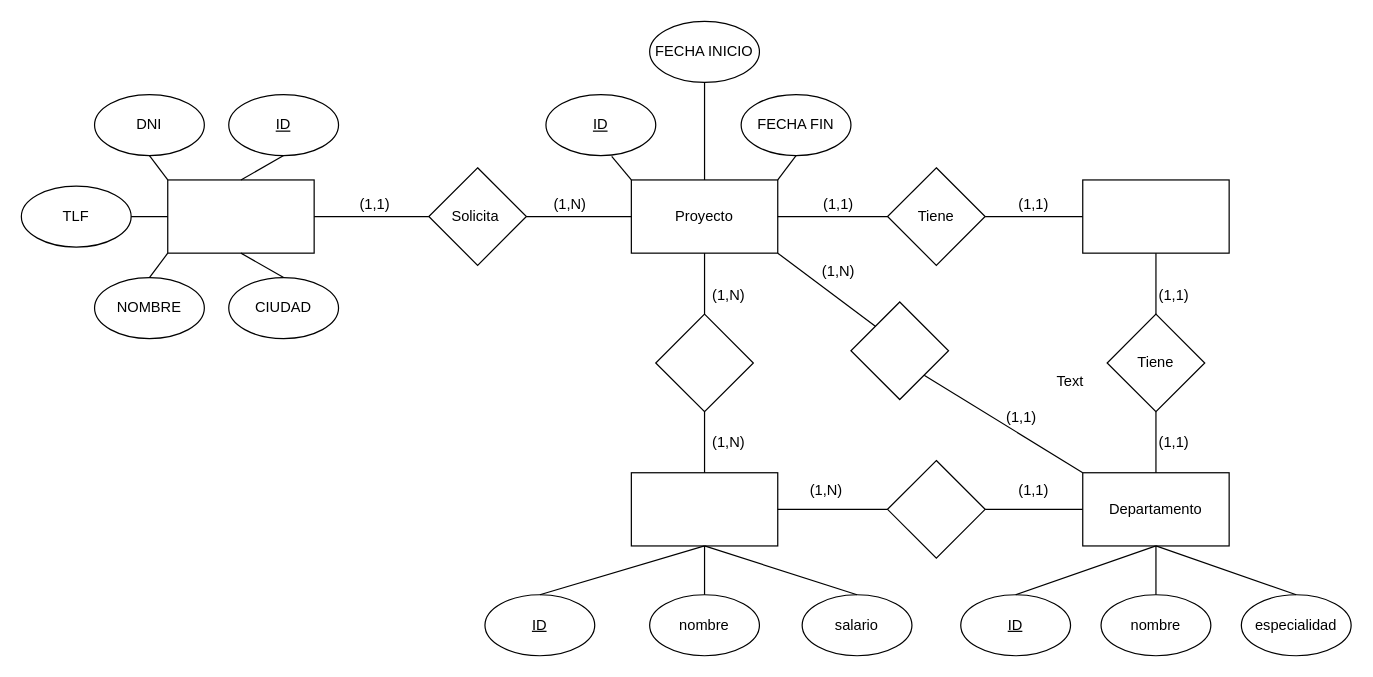
Some shapes in this 1373 by 677 pixel diagram are drawn without their labels. Here are the shapes that lost their labels. From the top down, the box of each, then its label:
(167, 179, 314, 253): Cliente
(1082, 179, 1229, 253): Responsable
(655, 313, 753, 412): Trabaja
(850, 301, 949, 400): se desarrolla
(630, 472, 778, 546): Empleado
(886, 459, 985, 558): Pertenece
